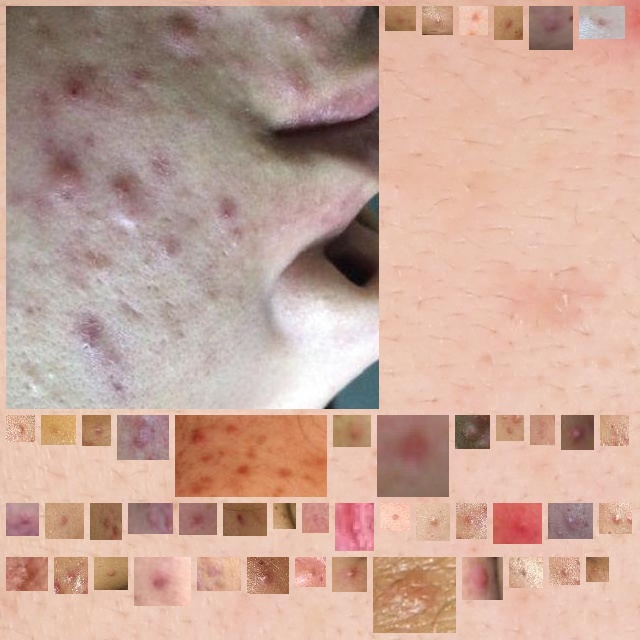papule: (14, 14, 463, 401), (183, 423, 319, 489), (381, 565, 448, 625), (385, 423, 441, 489), (142, 565, 183, 598), (125, 423, 161, 452), (501, 511, 534, 536), (537, 14, 565, 42), (343, 511, 366, 543), (470, 565, 495, 592), (556, 511, 585, 531), (255, 565, 281, 586), (587, 14, 617, 31), (205, 565, 233, 583), (231, 511, 259, 528), (14, 565, 40, 583), (53, 511, 76, 531), (136, 511, 165, 526), (424, 511, 442, 533), (62, 565, 80, 586), (340, 565, 359, 584), (341, 423, 363, 439), (187, 511, 209, 527), (463, 423, 482, 441), (98, 511, 114, 532), (569, 423, 586, 442), (102, 565, 120, 582), (464, 511, 479, 531), (14, 511, 31, 528), (517, 565, 535, 580), (49, 423, 68, 437), (607, 511, 624, 526), (502, 14, 515, 32), (303, 565, 318, 579), (430, 14, 445, 27), (90, 423, 103, 438), (608, 423, 621, 438), (557, 565, 572, 577), (467, 14, 480, 27), (388, 511, 402, 523), (310, 511, 321, 525), (14, 423, 27, 434), (393, 14, 408, 23), (538, 423, 547, 437), (504, 423, 516, 433), (281, 511, 288, 521), (594, 565, 601, 574)
